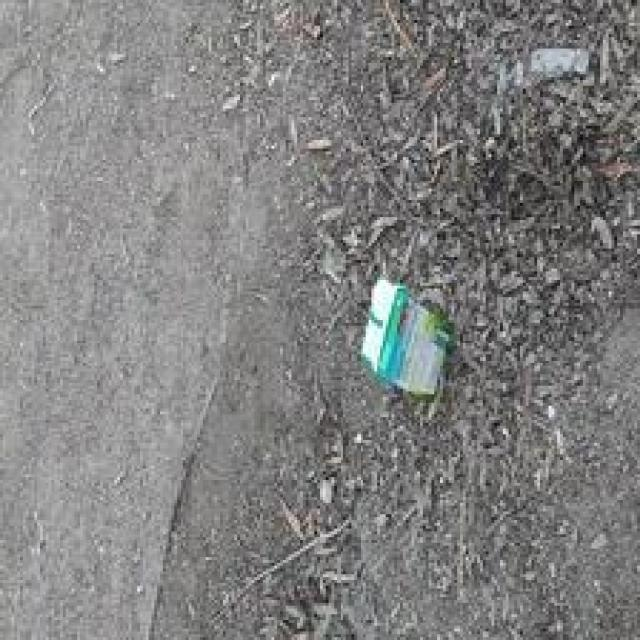Carton: (359, 269, 461, 400)
